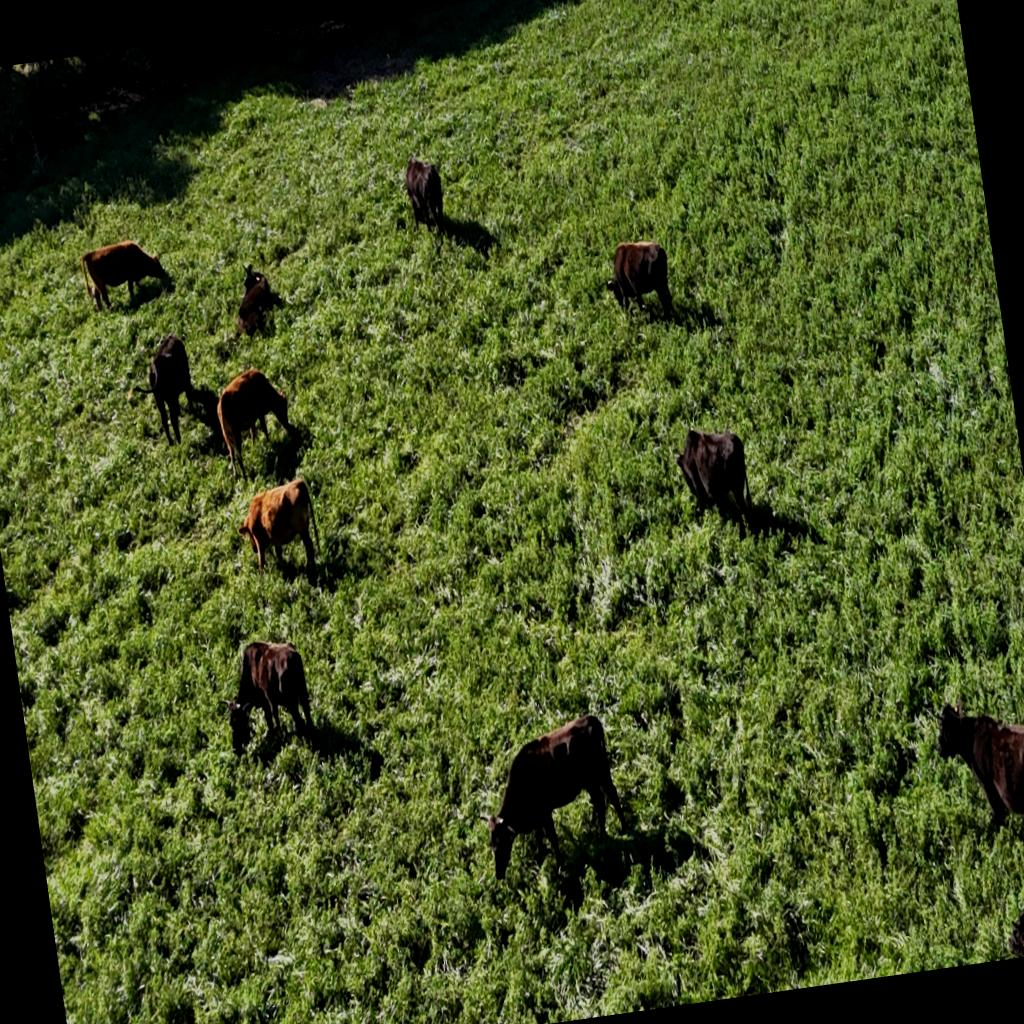cow: (469, 712, 633, 888), (928, 685, 1024, 875), (654, 404, 772, 556), (204, 357, 320, 481), (219, 631, 317, 757), (232, 476, 324, 585), (131, 329, 201, 449), (76, 232, 170, 316), (599, 238, 674, 329), (400, 148, 453, 246), (230, 267, 276, 338)
